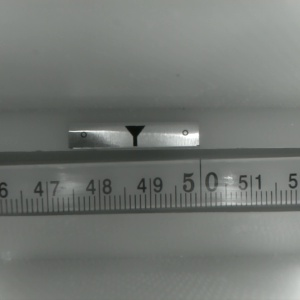0: (205, 172, 219, 192)
1: (255, 174, 261, 190)
4: (33, 181, 44, 197), (136, 178, 146, 193), (85, 180, 95, 194)
5: (182, 172, 193, 192), (287, 172, 297, 189), (238, 175, 248, 190)
6: (0, 182, 8, 198)
7: (50, 180, 59, 196)
8: (101, 178, 111, 194)
9: (152, 177, 162, 193)
finger: (123, 126, 145, 147)
